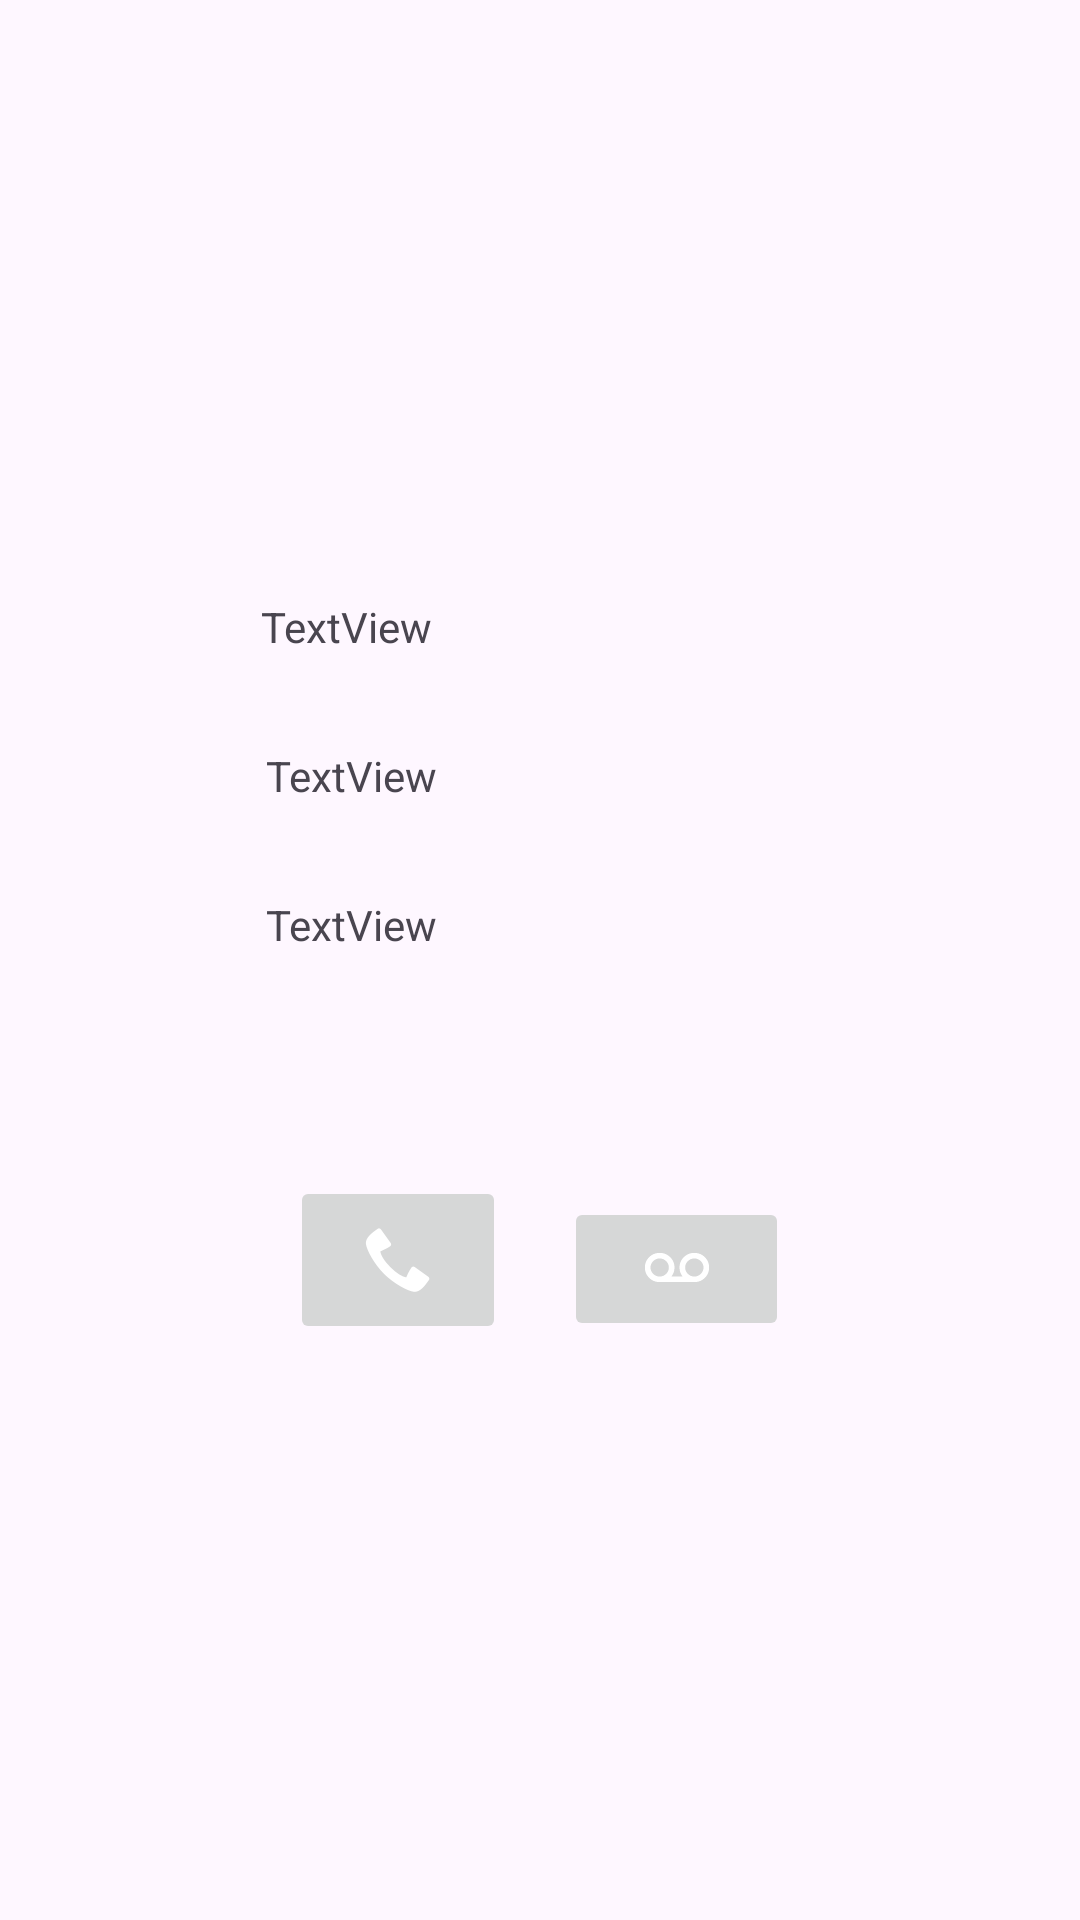

Screen size 1080px x 1920px. Icon name, then its box in pixels as region(x1, y1, x2, y2):
phone call: region(302, 1194, 494, 1326)
voicemail: region(576, 1215, 777, 1323)
